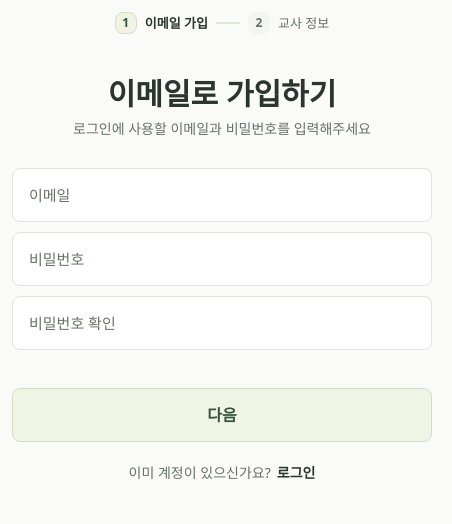
Test: SignupPage › 두 비밀번호가 다르면 확인 칸에 알려 준다
Type "teacher@example.com" into the field labelled "이메일" at (222, 195), box left=12, top=168, right=432, bottom=222
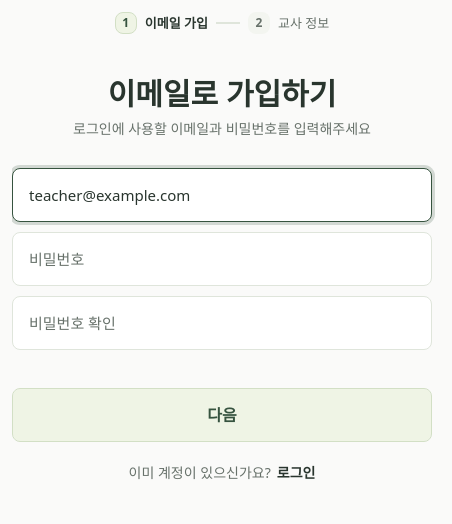
Type "secret-1" into the password field labelled "비밀번호" at (222, 259), box left=12, top=232, right=432, bottom=286
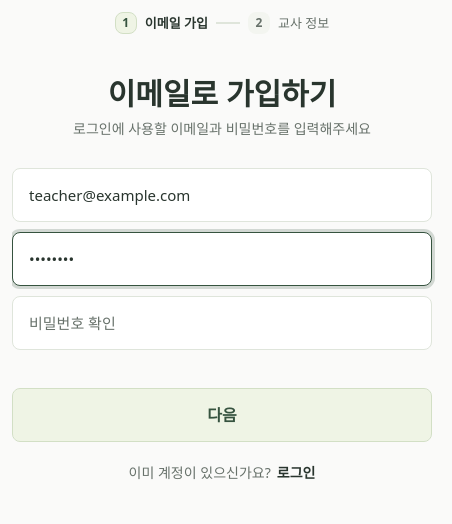
Type "secret-2" into the password field labelled "비밀번호 확인" at (222, 323), box left=12, top=296, right=432, bottom=350
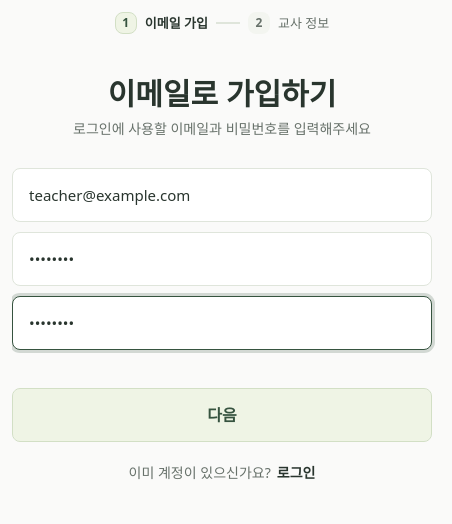
Click the button "다음" at (222, 415), box left=12, top=388, right=432, bottom=442
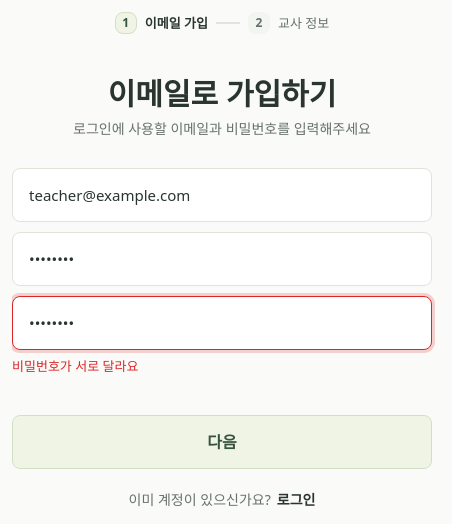
Result: the text "비밀번호가 서로 달라요" is shown at left=12, top=357, right=138, bottom=375
